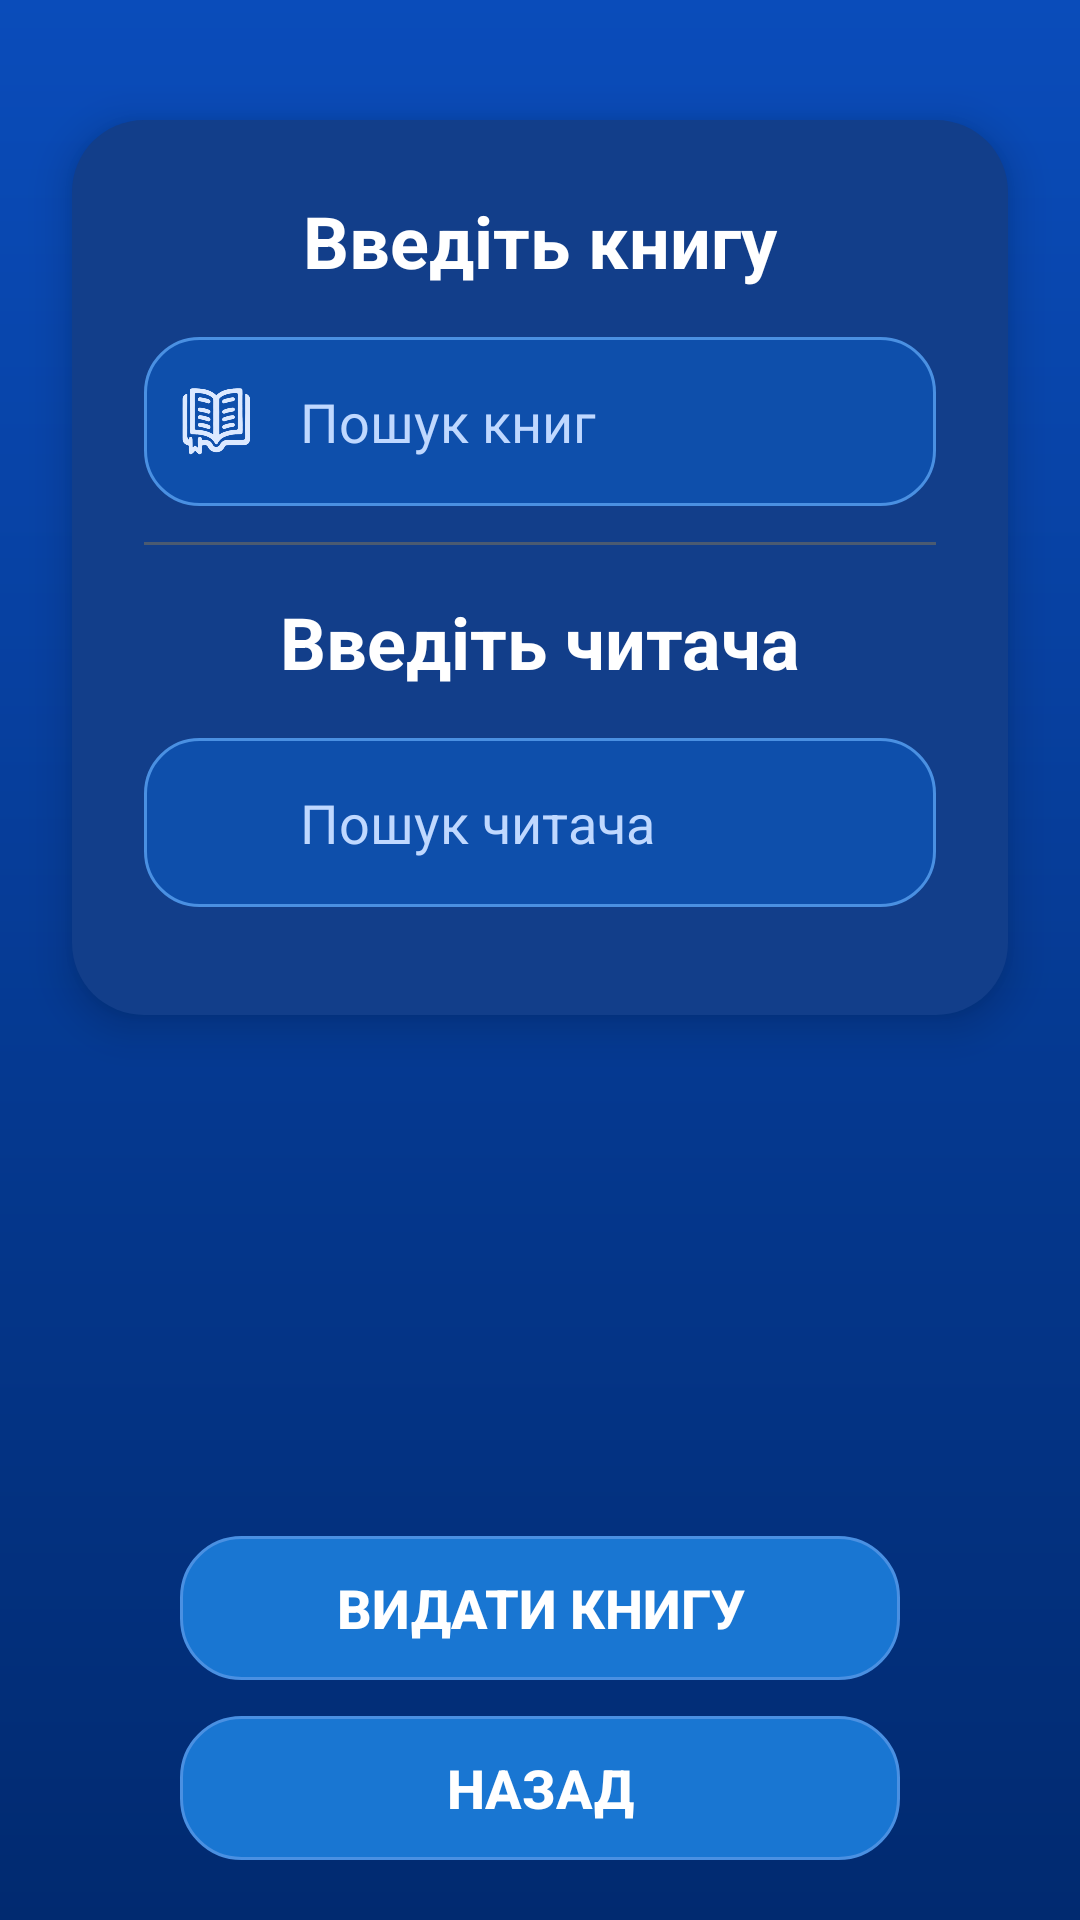

Point at icon controls on the screen. Image size 1080px x 1920px, points as point (x, y).
book: point (216, 421)
